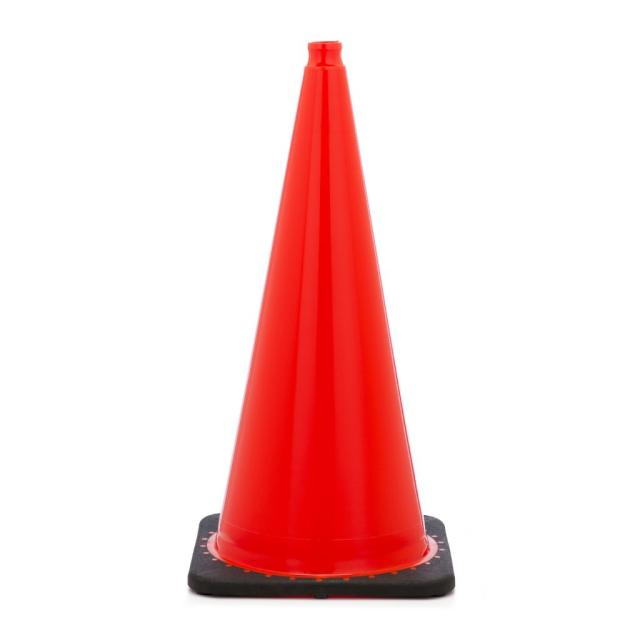traffic cone: (183, 32, 467, 613)
